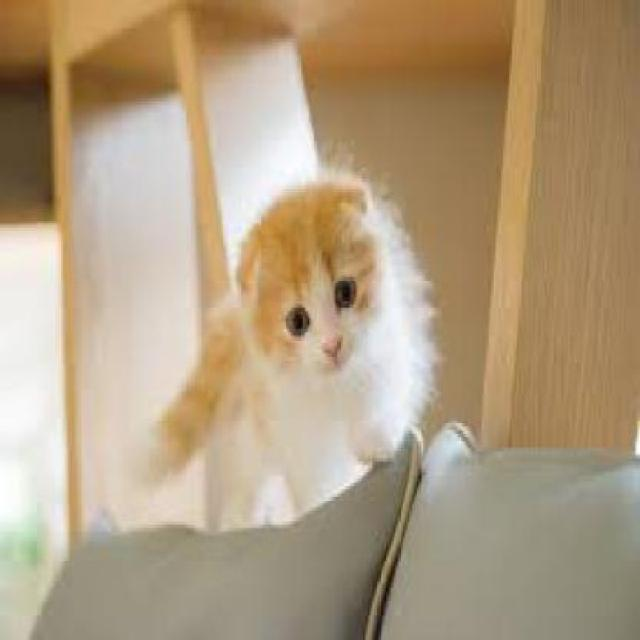cat: (153, 171, 430, 529)
